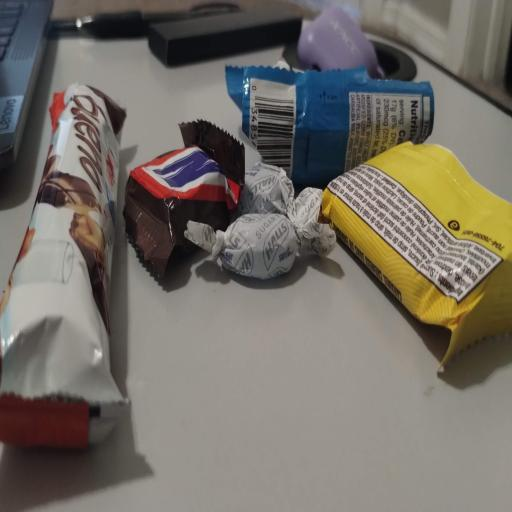chocolate: (0, 84, 126, 447), (322, 142, 512, 366), (225, 66, 435, 185), (124, 121, 244, 276), (185, 189, 335, 279), (239, 163, 293, 214)
